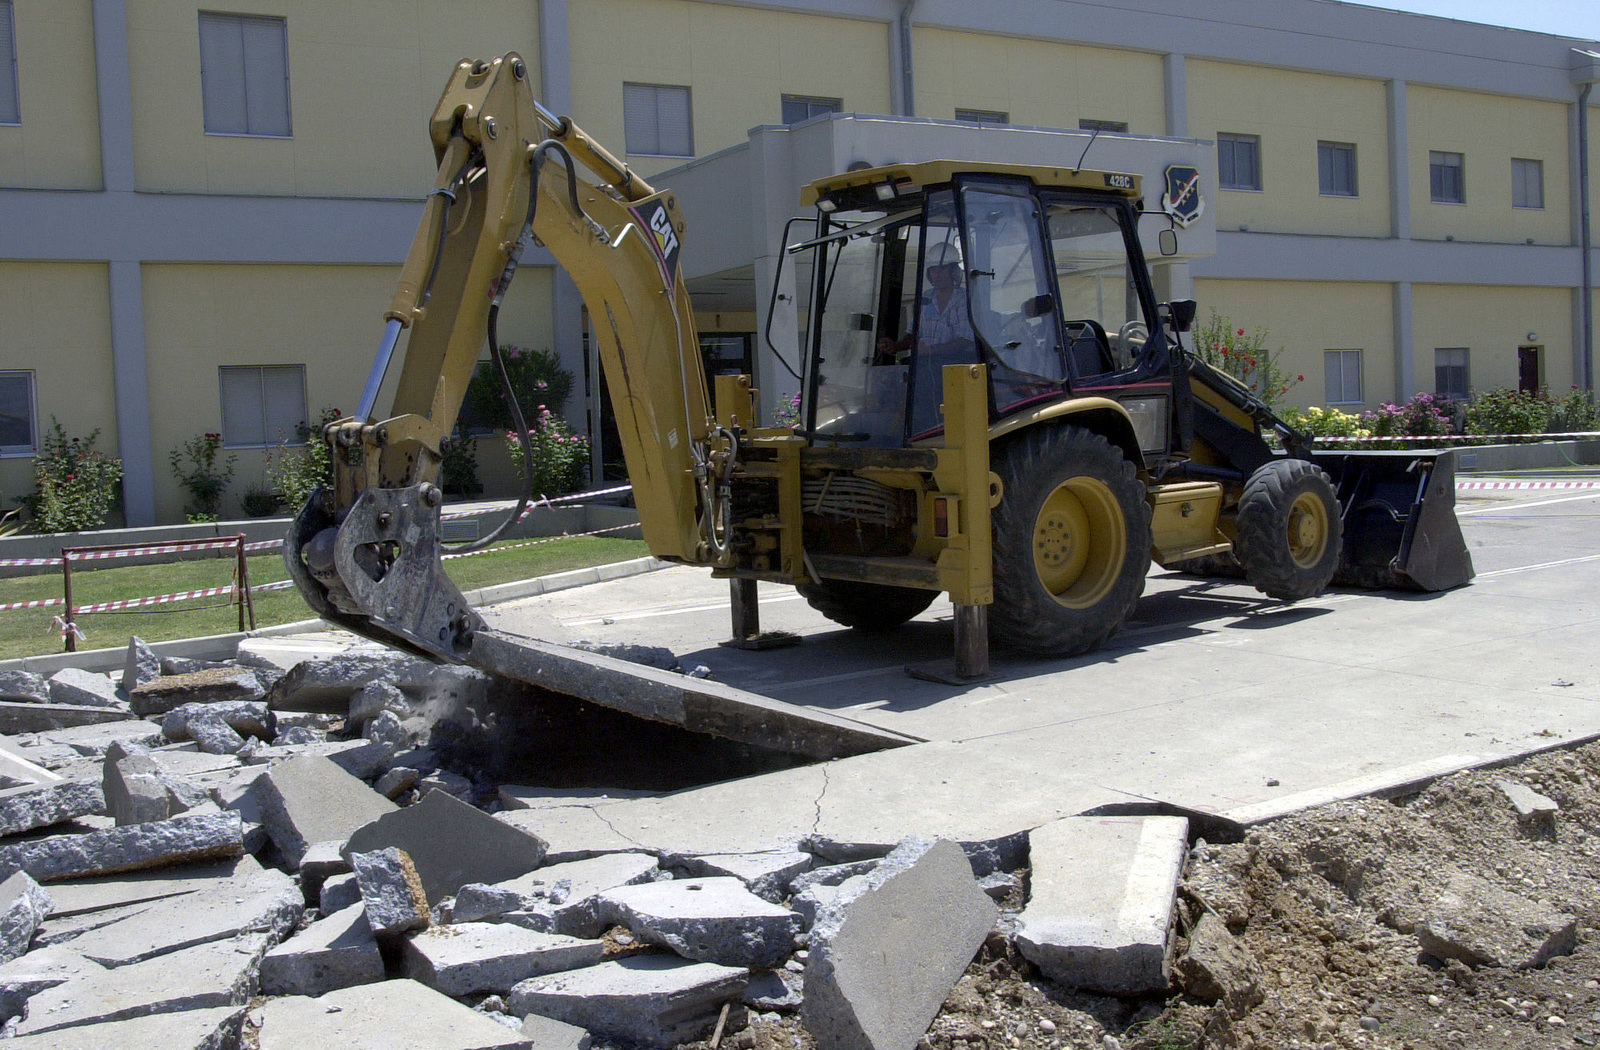excavator: (315, 57, 1470, 637)
